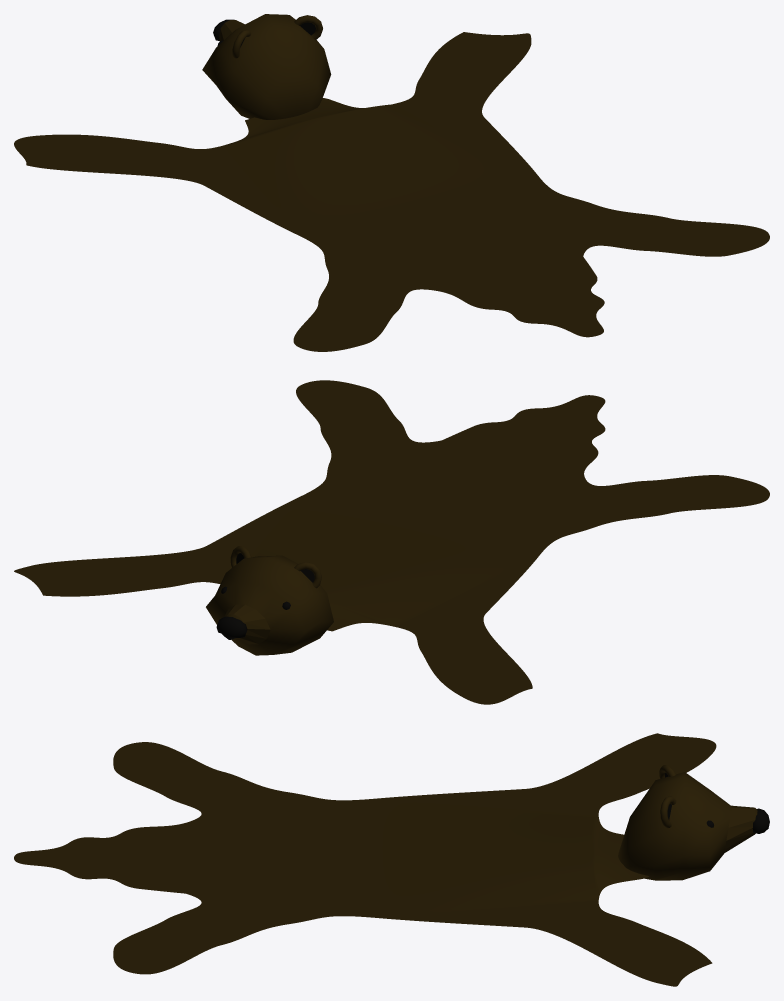
Rendered from oso.FBX.
3 views of the same model, one above another, from view 1: azimuth 30°, elevation 25°; view 2: azimuth 150°, elevation 25°; view 3: azimuth 270°, elevation 25° (orthographic).
Parts seen in each view (by area): view 1: Line001, Sphere001; view 2: Line001, Sphere001; view 3: Line001, Sphere001.
Boxes of the visible parts, left/top/right/bottom form: Line001: left=14, top=32, right=769, bottom=351; Sphere001: left=202, top=14, right=331, bottom=119; Line001: left=14, top=380, right=769, bottom=704; Sphere001: left=206, top=555, right=333, bottom=655; Line001: left=14, top=733, right=716, bottom=986; Sphere001: left=618, top=772, right=757, bottom=880.
Bounding box in the file's own units: 328 × 60.06 × 413.
